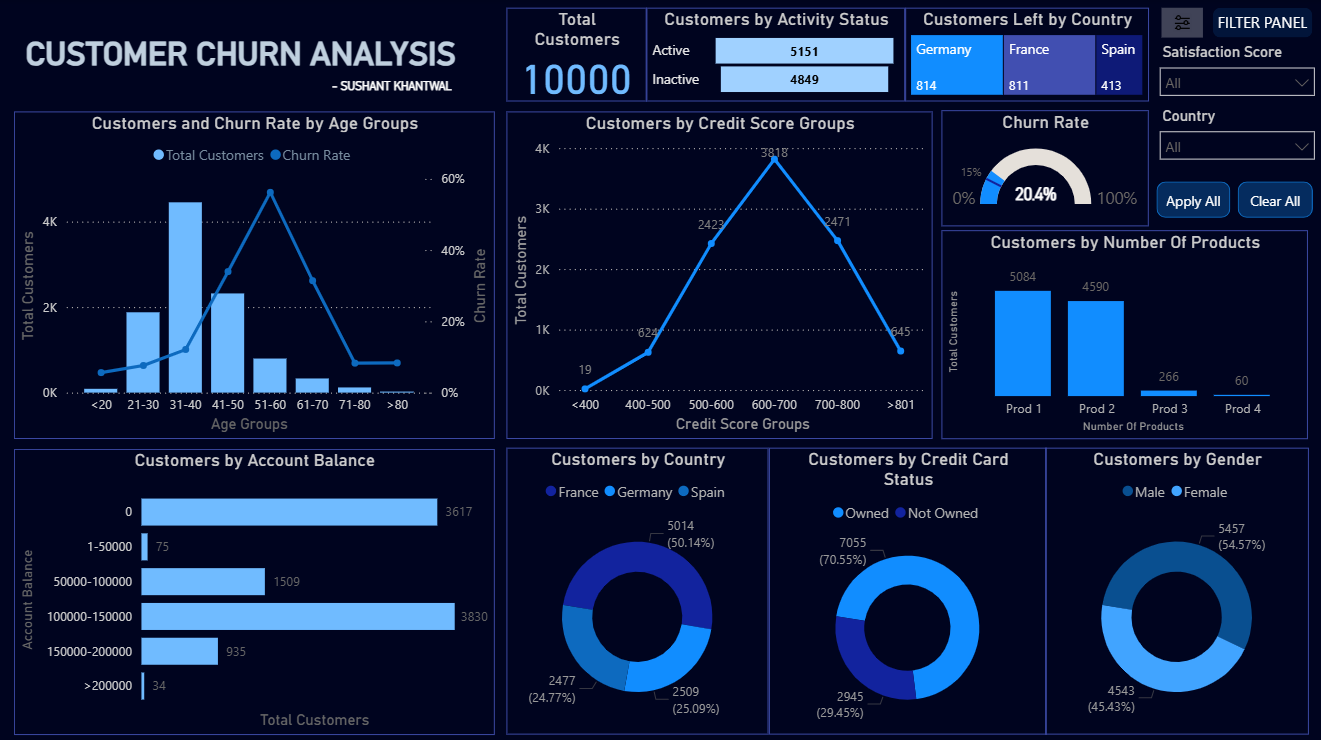

The page's visual inventory and layout, read from the dashboard file:
{"tool":"powerbi","page":{"name":"Page 1","canvas":[1280,720],"ordinal":0},"visuals":[{"type":"donutChart","title":"Customers by Gender","fields":{"Y":["Bank-Customer-Attrition-Insights-Data.Total Customers"],"Category":["Bank-Customer-Attrition-Insights-Data.Gender"]},"box":[1009.9,433.3,254.3,276.5],"z":0},{"type":"donutChart","title":"Customers by Country","fields":{"Y":["Bank-Customer-Attrition-Insights-Data.Total Customers"],"Category":["Bank-Customer-Attrition-Insights-Data.Country"]},"box":[490.1,433.3,253.1,276.5],"z":1000},{"type":"donutChart","title":"Customers by Credit Card Status","fields":{"Y":["Bank-Customer-Attrition-Insights-Data.Total Customers"],"Category":["Bank-Customer-Attrition-Insights-Data.Credit Card Status"]},"box":[743.2,433.3,267.9,276.5],"z":2000},{"type":"columnChart","title":"Customers by Number Of Products","fields":{"Category":["Bank-Customer-Attrition-Insights-Data.Number Of Products"],"Y":["Bank-Customer-Attrition-Insights-Data.Total Customers"]},"box":[910,223.8,353.8,201.2],"z":3000},{"type":"lineClusteredColumnComboChart","title":"Customers and Churn Rate by Age Groups","fields":{"Category":["Age Groups.Age Groups"],"Y":["Bank-Customer-Attrition-Insights-Data.Total Customers"],"Y2":["Bank-Customer-Attrition-Insights-Data.Churn Rate"]},"box":[15,108.8,463.8,316.2],"z":4000},{"type":"lineChart","title":"Customers by Credit Score Groups","fields":{"Y":["Bank-Customer-Attrition-Insights-Data.Total Customers"],"Category":["Credit Score Groups.Credit Score Groups"]},"box":[490,108.8,411.2,316.2],"z":5000},{"type":"clusteredBarChart","title":"Customers by Account Balance","fields":{"Category":["Account Balance Groups.Account Balance"],"Y":["Bank-Customer-Attrition-Insights-Data.Total Customers"]},"box":[15,433.8,463.8,276.2],"z":6000},{"type":"card","title":"Total Customers","fields":{"Values":["Bank-Customer-Attrition-Insights-Data.Total Customers"]},"box":[489.8,8.4,135.1,90.5],"z":7000},{"type":"gauge","title":"Churn Rate","fields":{"MaxValue":["Max(Bank-Customer-Attrition-Insights-Data.Max Churn Rate)"],"MinValue":["Min(Bank-Customer-Attrition-Insights-Data.Min Churn Rate)"],"Y":["Bank-Customer-Attrition-Insights-Data.Churn Rate"],"TargetValue":["Min(Bank-Customer-Attrition-Insights-Data.Target Churn Rate)"]},"box":[909.9,107.4,200,112.3],"z":8000},{"type":"slicer","fields":{"Values":["Bank-Customer-Attrition-Insights-Data.Satisfaction Score"]},"box":[1110,37.5,170,61.2],"z":9000},{"type":"slicer","fields":{"Values":["Bank-Customer-Attrition-Insights-Data.Country"]},"box":[1110,98.8,170,63.8],"z":10000},{"type":"shape","box":[1117.5,176.2,71.2,35],"z":11000},{"type":"shape","box":[1195,176.2,72.5,35],"z":12000},{"type":"funnel","title":"Customers by Activity Status","fields":{"Category":["Bank-Customer-Attrition-Insights-Data.Activity Status"],"Y":["Bank-Customer-Attrition-Insights-Data.Total Customers"]},"box":[624.9,8.4,249.7,90.5],"z":13000},{"type":"treemap","fields":{"Group":["Bank-Customer-Attrition-Insights-Data.Country"],"Values":["Bank-Customer-Attrition-Insights-Data.Customers Left"]},"box":[874.7,8,235.3,90.5],"z":14000},{"type":"image","box":[1122.5,8.8,40,28.8],"z":15000},{"type":"shape","box":[1171.2,8.8,96.2,28.8],"z":16000},{"type":"shape","box":[14.5,24.1,453.6,60.3],"z":17000},{"type":"shape","box":[319.7,74.8,120.6,19.3],"z":18000}]}

Visuals, with their boxes in screenshot pixels (x1, y1, x2, y2), scaled from the page's 1280x720 canvas onto the 1321x740 screenshot:
"Customers by Gender" donutChart: 1042 445 1305 730
"Customers by Country" donutChart: 506 445 767 730
"Customers by Credit Card Status" donutChart: 767 445 1043 730
"Customers by Number Of Products" columnChart: 939 230 1304 437
"Customers and Churn Rate by Age Groups" lineClusteredColumnComboChart: 15 112 494 437
"Customers by Credit Score Groups" lineChart: 506 112 930 437
"Customers by Account Balance" clusteredBarChart: 15 446 494 730
"Total Customers" card: 505 9 645 102
"Churn Rate" gauge: 939 110 1145 226
slicer - Bank-Customer-Attrition-Insights-Data.Satisfaction Score: 1146 39 1320 101
slicer - Bank-Customer-Attrition-Insights-Data.Country: 1146 102 1320 167
shape: 1153 181 1227 217
shape: 1233 181 1308 217
"Customers by Activity Status" funnel: 645 9 903 102
treemap - Bank-Customer-Attrition-Insights-Data.Country x Bank-Customer-Attrition-Insights-Data.Customers Left: 903 8 1146 101
image: 1158 9 1200 39
shape: 1209 9 1308 39
shape: 15 25 483 87
shape: 330 77 454 97
